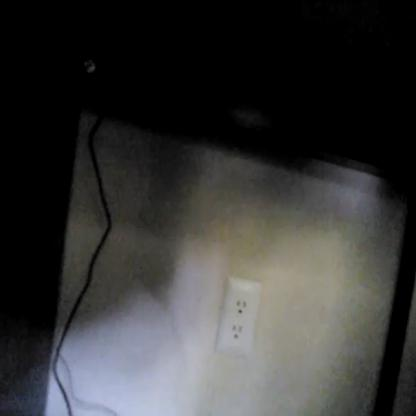OUTLET: (218, 277, 258, 360)
